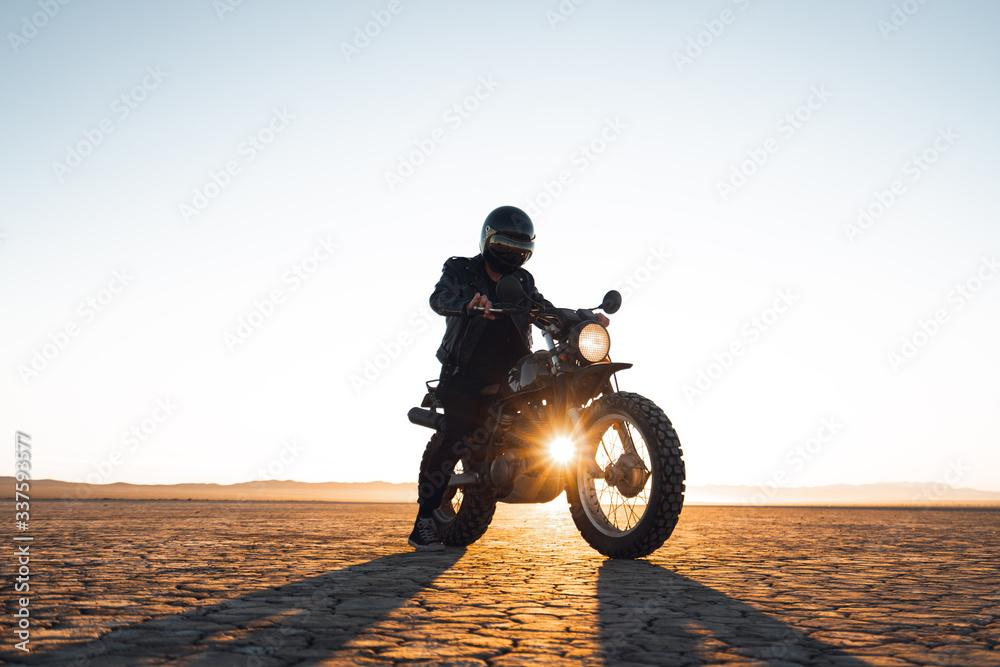helmet: (478, 205, 537, 276)
